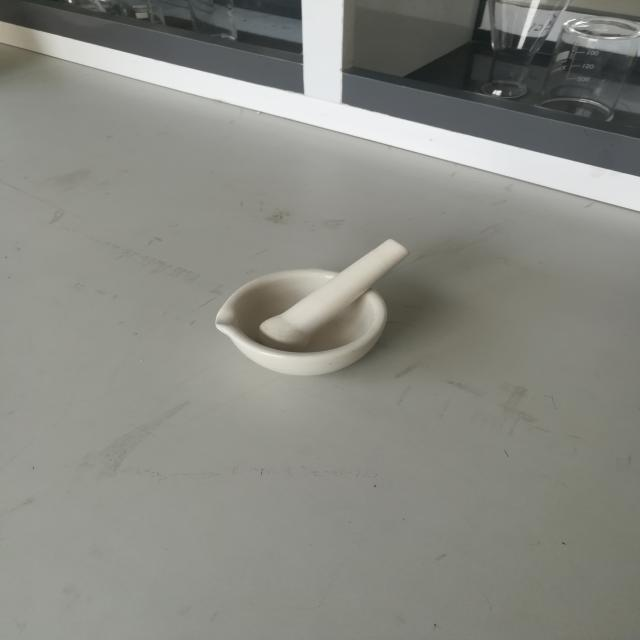Porcelain_Mortar Pestle: (196, 217, 445, 402)
